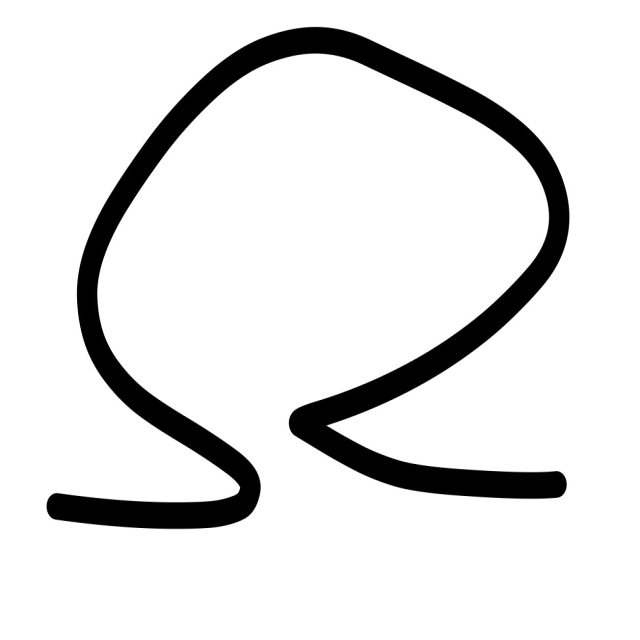ohms: (30, 3, 600, 600)
